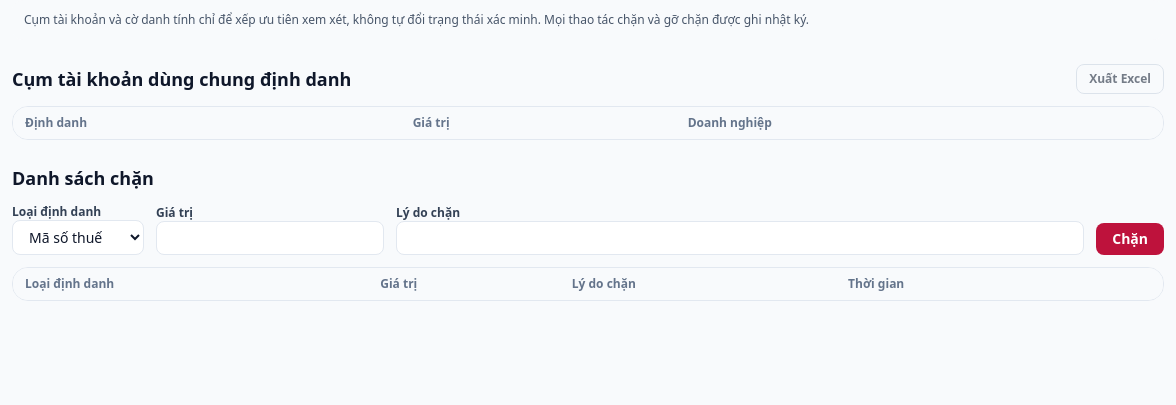
Test: Danh tính & chặn (I11) › định danh đã bị chặn: báo lỗi 409
Step 1. Type "0314892345" into the field labelled "Giá trị" → coordinates (270, 238), box [156,221,384,255]
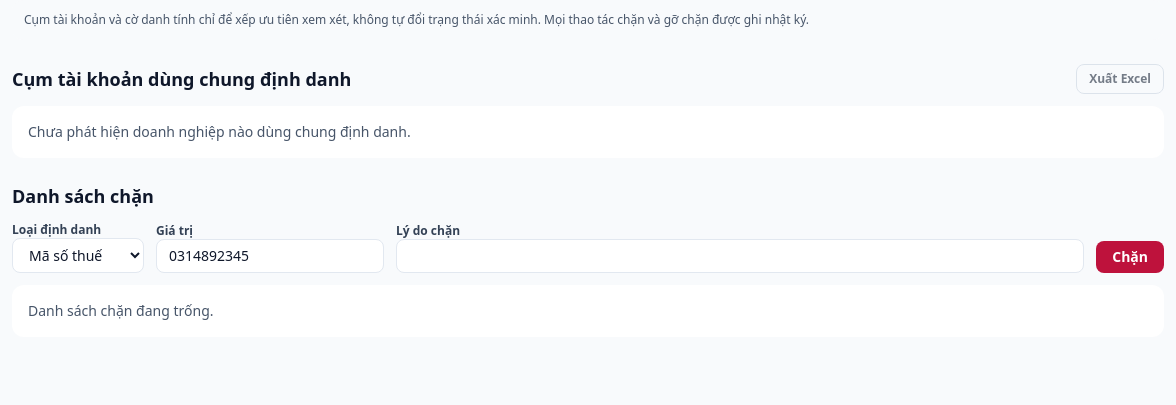
Step 2. Type "x" into the field labelled "Lý do chặn" → coordinates (740, 256), box [396,239,1084,273]
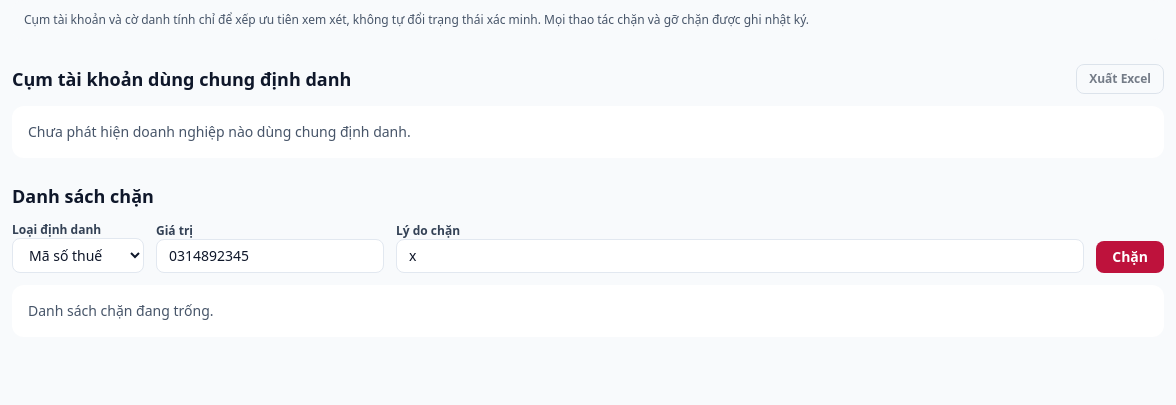
Step 3. Click the button "Chặn" → coordinates (1130, 257), box [1096,241,1164,273]
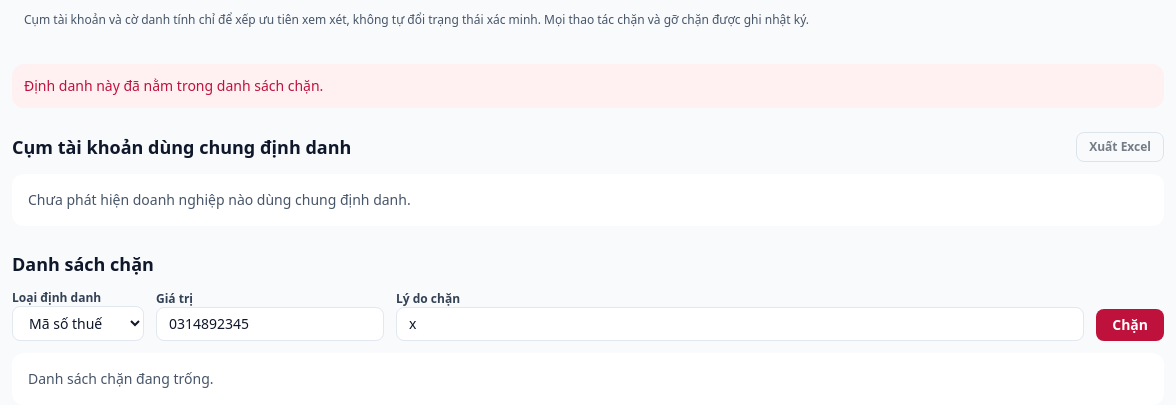
Now the message "Định danh này đã nằm trong danh sách chặn." is shown, box [12,64,1164,108]
